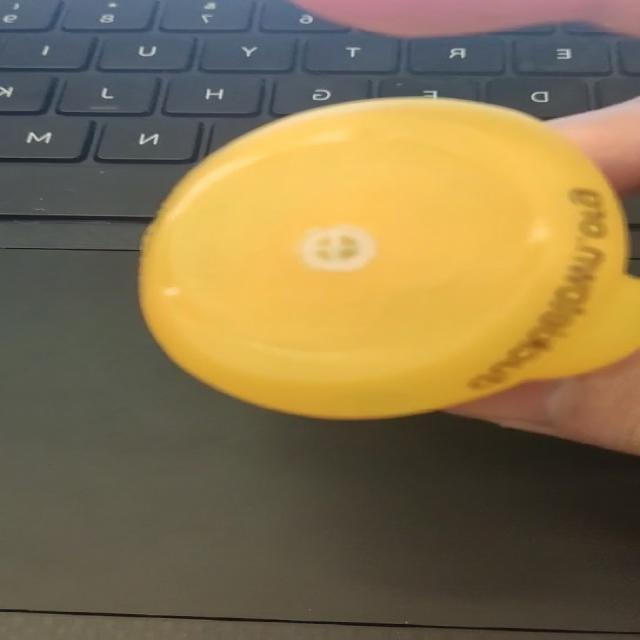rubber-duck: (139, 98, 638, 417)
